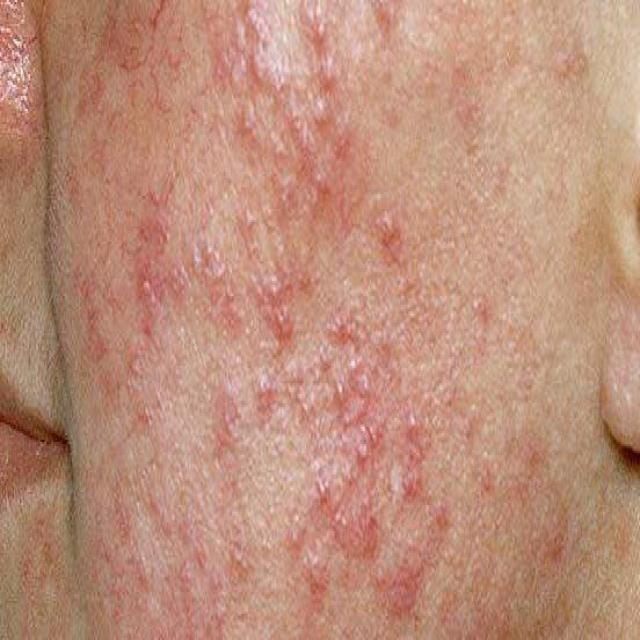blackheads: (256, 266, 304, 346), (190, 224, 229, 294), (385, 455, 408, 512), (205, 354, 226, 414), (403, 396, 428, 444), (350, 422, 376, 466), (141, 174, 166, 218), (352, 348, 374, 396), (289, 498, 306, 560), (239, 85, 256, 137), (474, 281, 488, 344), (255, 368, 275, 411), (377, 207, 396, 250), (306, 2, 328, 39), (137, 268, 156, 309), (312, 451, 329, 494), (309, 90, 328, 126), (318, 52, 337, 85), (332, 370, 344, 403)
